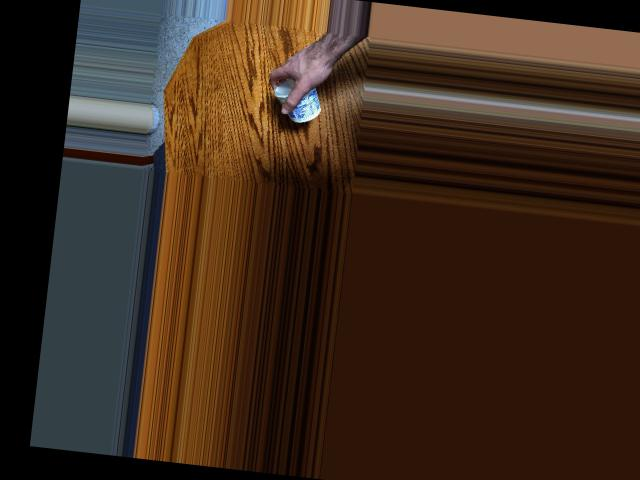cotage: (269, 73, 327, 126)
